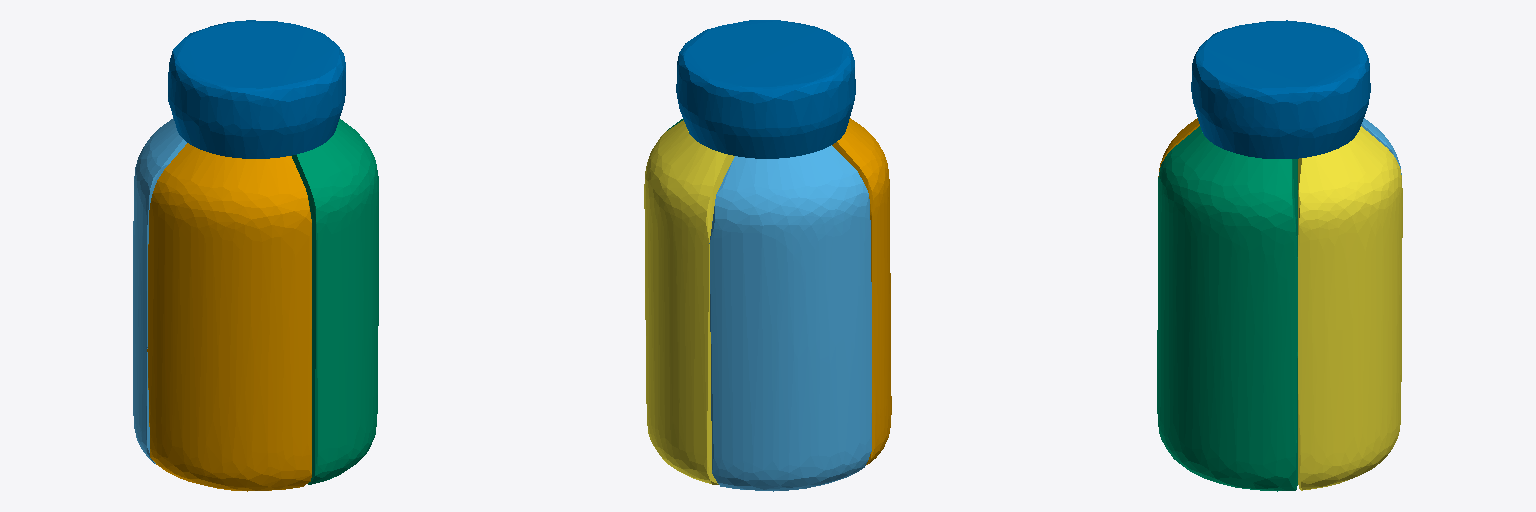
URDF robot description (root):
<robot name="root">
  <link name="link_convex_piece_004.obj">
    <inertial>
      <origin xyz="0 0 0" rpy="0 0 0"/>
    </inertial>
    <visual>
      <origin xyz="0 0 0" rpy="0 0 0"/>
      <geometry>
        <mesh filename="meshes/convex_piece_004.obj" scale="1.0 1.0 1.0"/>
      </geometry>
    </visual>
    <collision>
      <origin xyz="0 0 0" rpy="0 0 0"/>
      <geometry>
        <mesh filename="meshes/convex_piece_004.obj" scale="1.0 1.0 1.0"/>
      </geometry>
    </collision>
  </link>
  <link name="link_convex_piece_001.obj">
    <inertial>
      <origin xyz="0 0 0" rpy="0 0 0"/>
    </inertial>
    <visual>
      <origin xyz="0 0 0" rpy="0 0 0"/>
      <geometry>
        <mesh filename="meshes/convex_piece_001.obj" scale="1.0 1.0 1.0"/>
      </geometry>
    </visual>
    <collision>
      <origin xyz="0 0 0" rpy="0 0 0"/>
      <geometry>
        <mesh filename="meshes/convex_piece_001.obj" scale="1.0 1.0 1.0"/>
      </geometry>
    </collision>
  </link>
  <joint name="link_convex_piece_001.obj_joint" type="fixed">
    <origin xyz="0 0 0" rpy="0 0 0"/>
    <parent link="link_convex_piece_004.obj"/>
    <child link="link_convex_piece_001.obj"/>
  </joint>
  <link name="link_convex_piece_002.obj">
    <inertial>
      <origin xyz="0 0 0" rpy="0 0 0"/>
    </inertial>
    <visual>
      <origin xyz="0 0 0" rpy="0 0 0"/>
      <geometry>
        <mesh filename="meshes/convex_piece_002.obj" scale="1.0 1.0 1.0"/>
      </geometry>
    </visual>
    <collision>
      <origin xyz="0 0 0" rpy="0 0 0"/>
      <geometry>
        <mesh filename="meshes/convex_piece_002.obj" scale="1.0 1.0 1.0"/>
      </geometry>
    </collision>
  </link>
  <joint name="link_convex_piece_002.obj_joint" type="fixed">
    <origin xyz="0 0 0" rpy="0 0 0"/>
    <parent link="link_convex_piece_001.obj"/>
    <child link="link_convex_piece_002.obj"/>
  </joint>
  <link name="link_convex_piece_003.obj">
    <inertial>
      <origin xyz="0 0 0" rpy="0 0 0"/>
    </inertial>
    <visual>
      <origin xyz="0 0 0" rpy="0 0 0"/>
      <geometry>
        <mesh filename="meshes/convex_piece_003.obj" scale="1.0 1.0 1.0"/>
      </geometry>
    </visual>
    <collision>
      <origin xyz="0 0 0" rpy="0 0 0"/>
      <geometry>
        <mesh filename="meshes/convex_piece_003.obj" scale="1.0 1.0 1.0"/>
      </geometry>
    </collision>
  </link>
  <joint name="link_convex_piece_003.obj_joint" type="fixed">
    <origin xyz="0 0 0" rpy="0 0 0"/>
    <parent link="link_convex_piece_002.obj"/>
    <child link="link_convex_piece_003.obj"/>
  </joint>
  <link name="link_convex_piece_000.obj">
    <inertial>
      <origin xyz="0 0 0" rpy="0 0 0"/>
    </inertial>
    <visual>
      <origin xyz="0 0 0" rpy="0 0 0"/>
      <geometry>
        <mesh filename="meshes/convex_piece_000.obj" scale="1.0 1.0 1.0"/>
      </geometry>
    </visual>
    <collision>
      <origin xyz="0 0 0" rpy="0 0 0"/>
      <geometry>
        <mesh filename="meshes/convex_piece_000.obj" scale="1.0 1.0 1.0"/>
      </geometry>
    </collision>
  </link>
  <joint name="link_convex_piece_000.obj_joint" type="fixed">
    <origin xyz="0 0 0" rpy="0 0 0"/>
    <parent link="link_convex_piece_003.obj"/>
    <child link="link_convex_piece_000.obj"/>
  </joint>
</robot>

--- Render facts (derived) ---
Views: 3 orthographic renders of the robot side by side, from view 1: azimuth 30°, elevation 25°; view 2: azimuth 150°, elevation 25°; view 3: azimuth 270°, elevation 25°.
Robot: root — 5 links, 4 joints (4 fixed); root link link_convex_piece_004.obj; default pose: every joint at zero.
Links seen in each view (by area): view 1: link_convex_piece_004.obj, link_convex_piece_002.obj, link_convex_piece_000.obj, link_convex_piece_001.obj; view 2: link_convex_piece_001.obj, link_convex_piece_003.obj, link_convex_piece_000.obj, link_convex_piece_004.obj; view 3: link_convex_piece_002.obj, link_convex_piece_003.obj, link_convex_piece_000.obj.
Link boxes in pixels (x1=…): link_convex_piece_004.obj: x1=147, y1=143, x2=311, y2=491; link_convex_piece_002.obj: x1=292, y1=119, x2=378, y2=484; link_convex_piece_000.obj: x1=168, y1=20, x2=345, y2=158; link_convex_piece_001.obj: x1=133, y1=118, x2=186, y2=463; link_convex_piece_001.obj: x1=709, y1=145, x2=871, y2=491; link_convex_piece_003.obj: x1=644, y1=120, x2=734, y2=484; link_convex_piece_000.obj: x1=676, y1=20, x2=855, y2=158; link_convex_piece_004.obj: x1=832, y1=118, x2=891, y2=464; link_convex_piece_002.obj: x1=1157, y1=126, x2=1297, y2=491; link_convex_piece_003.obj: x1=1298, y1=126, x2=1402, y2=490; link_convex_piece_000.obj: x1=1191, y1=20, x2=1370, y2=158.
Bounding box of the posed robot: 0.8942 × 0.8895 × 1.59 m (x, y, z).
5 mesh visuals loaded from 5 distinct referenced files (5 OBJ).
